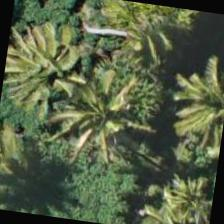Kelapa_Sawit: (0, 22, 102, 124), (50, 66, 152, 168), (0, 122, 53, 216)
